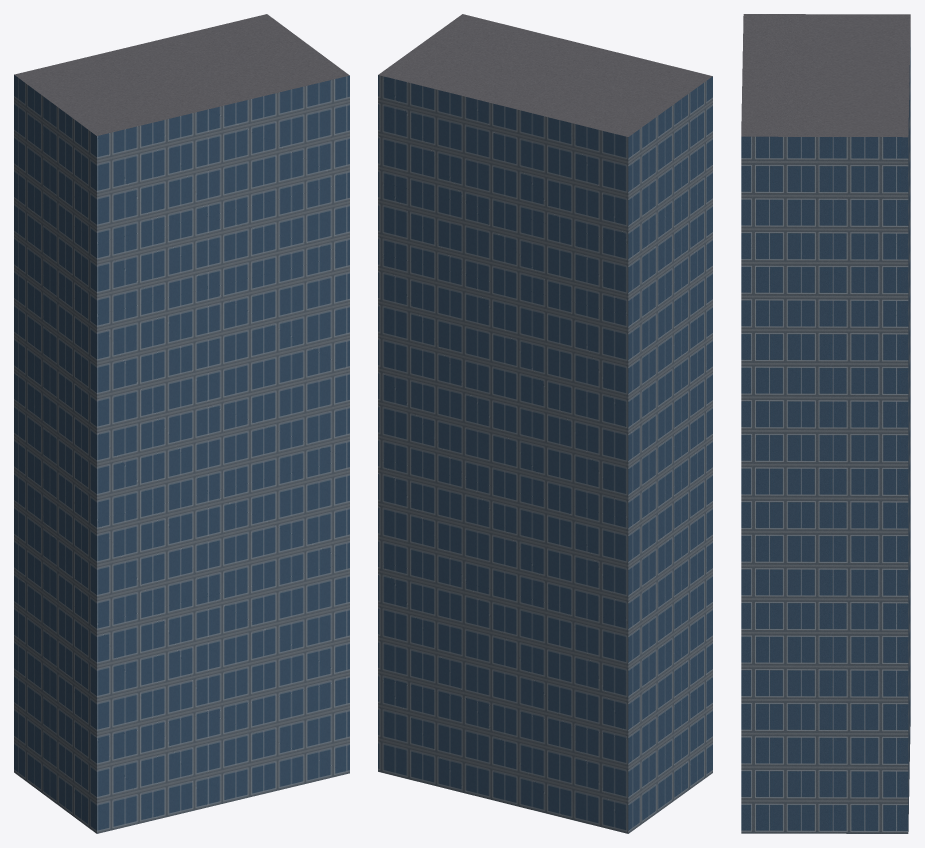
The model's file is bin1016884.glb.
3 renders of one model, left to right at view 1: azimuth 30°, elevation 25°; view 2: azimuth 150°, elevation 25°; view 3: azimuth 270°, elevation 25°, orthographic.
Visible parts, largest first — view 1: c27, c6, c1, c4, c22, c25, c2, c23, c0, c21, c3, c20 (+10 smaller); view 2: c6, c1, c4, c20, c2, c0, c3, c13, c8, c11, c5, c15 (+10 smaller); view 3: c27, c22, c25, c23, c21, c24, c26, c20, c6, c13.
Part boxes in pixels (x1,y1,x2,y2): c27: (208, 14, 349, 215); c6: (14, 59, 157, 242); c1: (14, 562, 157, 739); c4: (14, 253, 157, 430); c22: (208, 562, 349, 712); c25: (208, 254, 349, 404); c2: (14, 458, 157, 622); c23: (208, 459, 349, 596); c0: (14, 678, 157, 833); c21: (208, 679, 349, 806); c3: (14, 370, 157, 519); c20: (132, 15, 263, 227); c6: (565, 61, 712, 243); c1: (565, 562, 712, 739); c4: (565, 255, 712, 431); c20: (380, 48, 652, 203); c2: (565, 459, 712, 623); c0: (565, 679, 712, 833); c3: (565, 371, 712, 519); c13: (468, 87, 597, 227); c8: (468, 583, 564, 723); c11: (468, 276, 564, 415); c5: (565, 183, 712, 315); c15: (380, 562, 467, 699); c27: (741, 68, 908, 243); c22: (741, 623, 908, 739); c25: (741, 315, 908, 431); c23: (741, 519, 908, 623); c21: (741, 739, 908, 833); c24: (741, 431, 908, 520); c26: (741, 243, 908, 315); c20: (742, 43, 909, 241); c6: (743, 14, 910, 135); c13: (823, 45, 910, 188).
Size of the model in its own units: 27.5 by 72.54 by 16.
3 materials, 3 textured.
